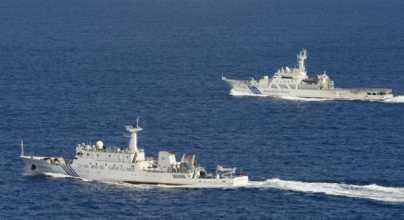warship: (16, 113, 255, 191), (226, 39, 404, 105)
